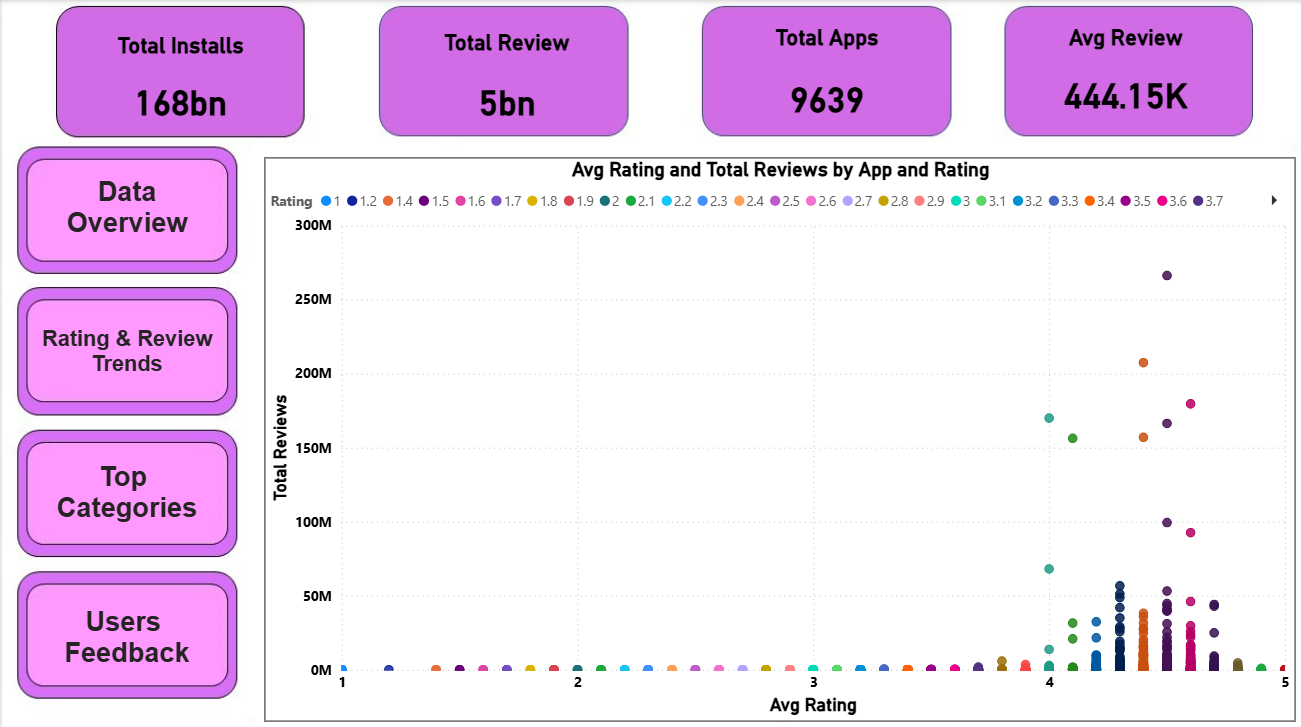

Layout of this report page (visuals, bound fields, positions):
{"tool":"powerbi","page":{"name":"Page 5","canvas":[1280,720],"ordinal":4},"visuals":[{"type":"scatterChart","fields":{"Category":["Play Store Data.App"],"X":["Play Store Data.Avg Rating"],"Y":["Play Store Data.Total Reviews"],"Series":["Play Store Data.Rating"]},"box":[257.3,154.7,1012,553.7],"z":0},{"type":"card","title":"Avg Review","fields":{"Values":["Play Store Data.Avg Review"]},"box":[1004.8,24.6,196.6,109.9],"z":1},{"type":"card","title":"Total Apps","fields":{"Values":["Play Store Data.No Of Apps"]},"box":[724.3,24.6,172,118.6],"z":2},{"type":"card","title":"Total Review","fields":{"Values":["Play Store Data.Total Reviews"]},"box":[399,28.9,193.7,114.2],"z":3},{"type":"card","title":"Total Installs","fields":{"Values":["Play Store Data.Total Installs"]},"box":[78.1,31.8,193.7,108.4],"z":4},{"type":"textbox","box":[33.3,167.7,179.3,98.3],"z":5},{"type":"textbox","box":[33.3,315.2,179.3,88.2],"z":6},{"type":"textbox","box":[33.3,448.2,179.3,85.3],"z":7},{"type":"textbox","box":[33.3,589.9,179.3,86.7],"z":8}]}

Visuals, with their boxes in screenshot pixels (x1, y1, x2, y2), scaled from the page's 1280x720 canvas onto the 1301x727 screenshot:
scatterChart - Play Store Data.App x Play Store Data.Avg Rating: {"left": 262, "top": 156, "right": 1290, "bottom": 715}
"Avg Review" card: {"left": 1021, "top": 25, "right": 1221, "bottom": 136}
"Total Apps" card: {"left": 736, "top": 25, "right": 911, "bottom": 145}
"Total Review" card: {"left": 406, "top": 29, "right": 602, "bottom": 144}
"Total Installs" card: {"left": 79, "top": 32, "right": 276, "bottom": 142}
textbox: {"left": 34, "top": 169, "right": 216, "bottom": 269}
textbox: {"left": 34, "top": 318, "right": 216, "bottom": 407}
textbox: {"left": 34, "top": 453, "right": 216, "bottom": 539}
textbox: {"left": 34, "top": 596, "right": 216, "bottom": 683}
